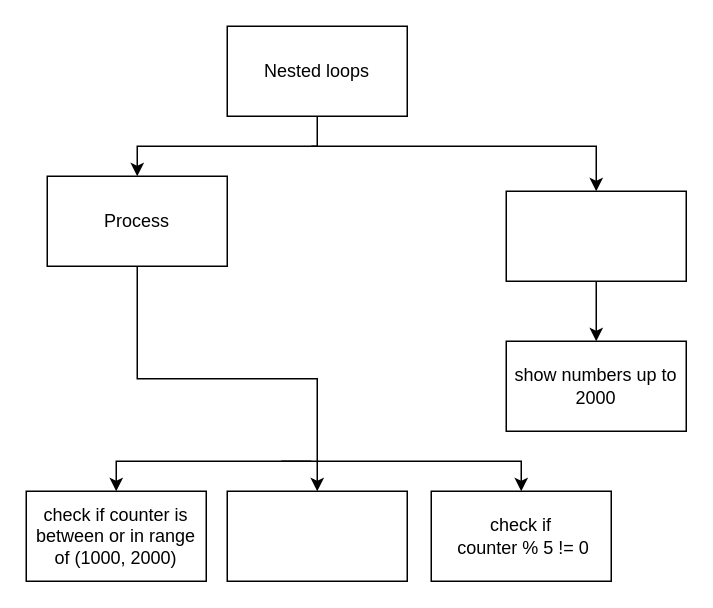
This 713x608 diagram has some shape labels left out. Here are the shapes that lost their labels. From the top down, the centre of each, then its label:
the point at 595,235: Output
the point at 316,535: check if counter % 5 == 0
